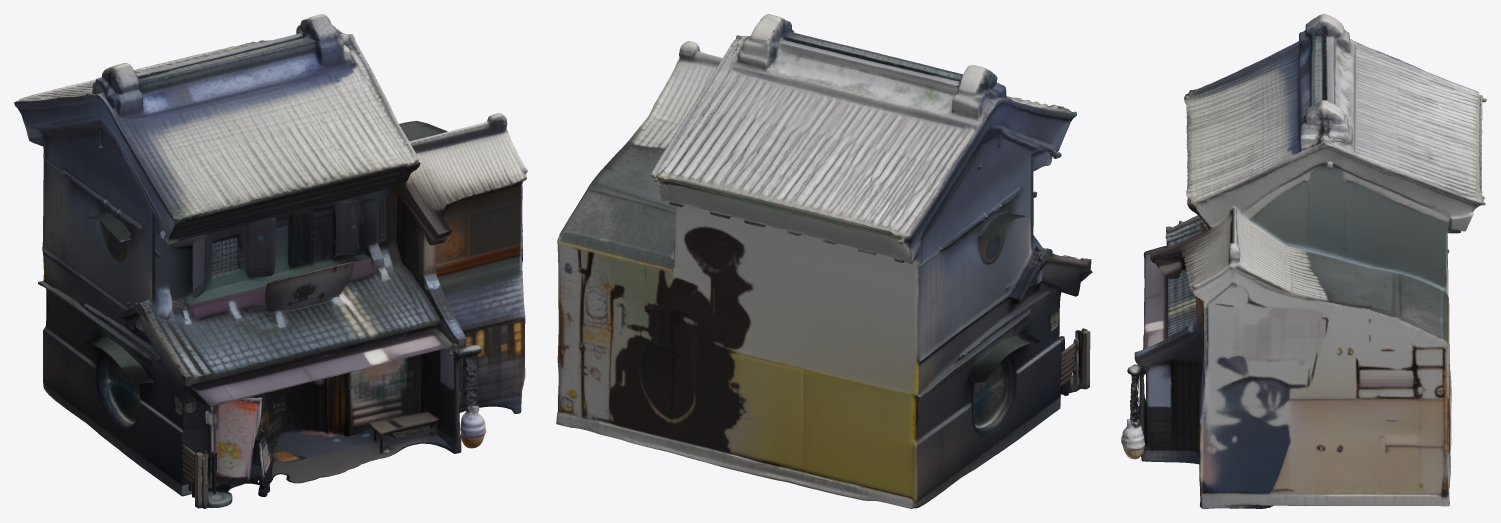
3 views of the same model, side by side, from view 1: azimuth 30°, elevation 25°; view 2: azimuth 150°, elevation 25°; view 3: azimuth 270°, elevation 25° (orthographic). The views are drawn at different scales.
Visible parts, largest first — view 1: mesh; view 2: mesh; view 3: mesh.
Part boxes in pixels (<box>): mesh: <box>14,14,527,508</box>; mesh: <box>556,14,1092,508</box>; mesh: <box>1121,14,1486,508</box>.
Bounding box in the file's own units: 0.9912 × 0.9954 × 0.9524.
Materials: 1 (1 with a texture image).
